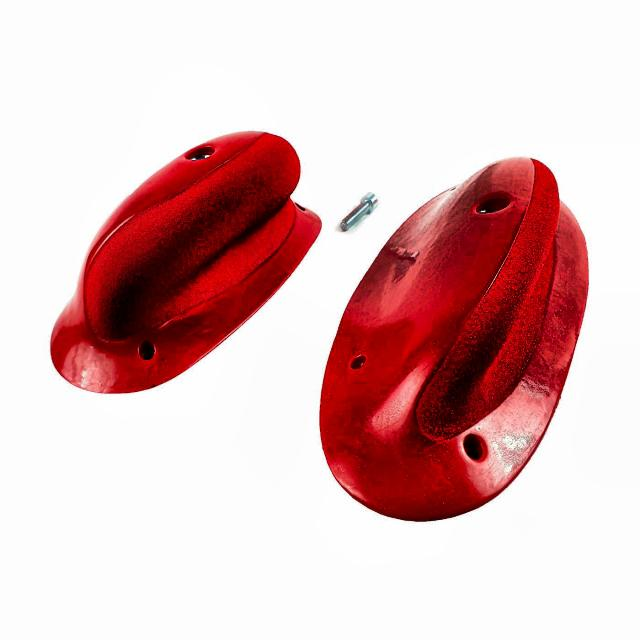Hold: (314, 151, 594, 523), (48, 126, 322, 412)
